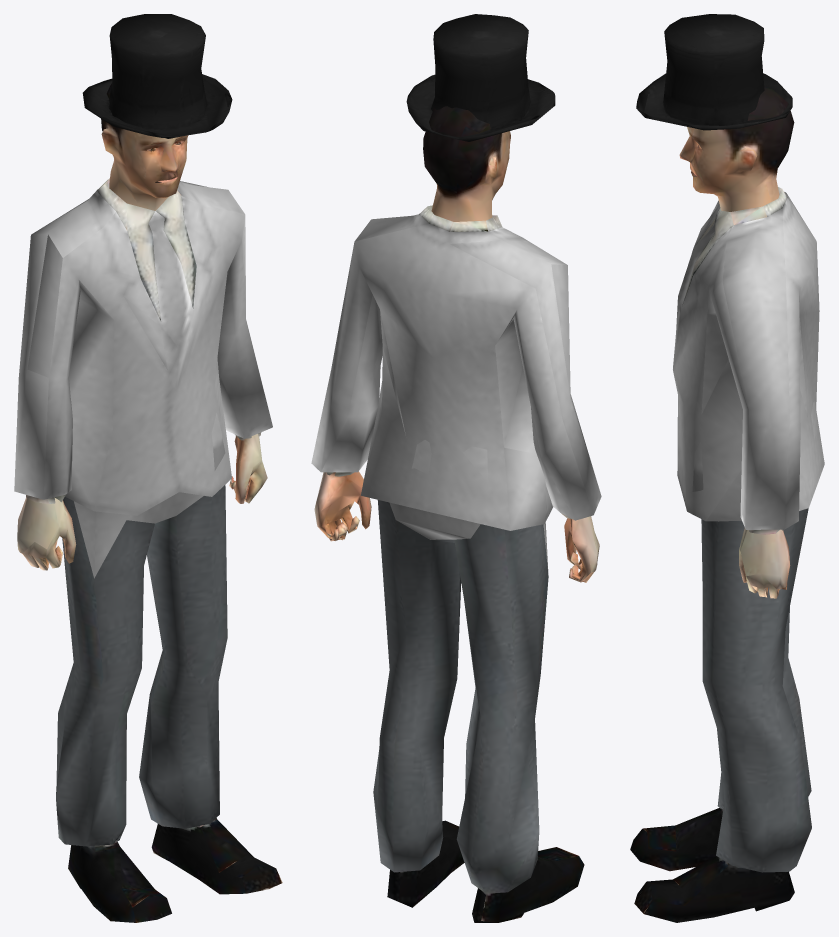
Rendered from diplomat.glb.
The picture shows the model from 3 angles, left to right: view 1: azimuth 30°, elevation 25°; view 2: azimuth 150°, elevation 25°; view 3: azimuth 270°, elevation 25°; orthographic projection.
Visible parts, largest first — view 1: diplomat; view 2: diplomat; view 3: diplomat.
Part boxes in pixels (x1,y1,x2,y2): diplomat: [14, 14, 282, 922]; diplomat: [311, 14, 601, 922]; diplomat: [630, 14, 824, 922].
Size of the model in its own units: 0.6148 by 1.91 by 0.3977.
3 materials, 3 textured.
